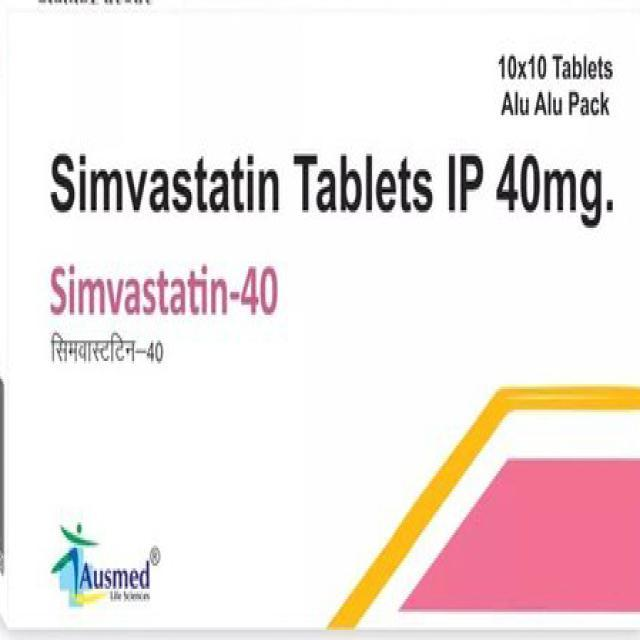drug-name: (45, 255, 282, 318)
